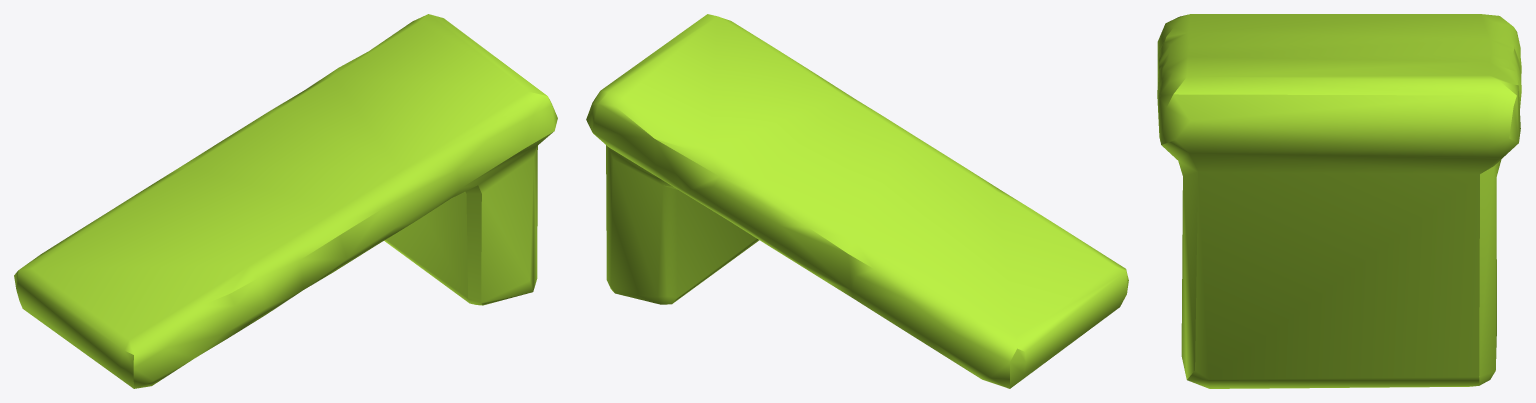
File: ramp.glb
3 renders of one model, left to right at view 1: azimuth 30°, elevation 25°; view 2: azimuth 150°, elevation 25°; view 3: azimuth 270°, elevation 25°, orthographic. The views are drawn at different scales.
Visible parts, largest first — view 1: ramp; view 2: ramp; view 3: ramp.
Boxes of the visible parts, bbox=[...] form: ramp: bbox=[14, 14, 557, 388]; ramp: bbox=[586, 14, 1128, 388]; ramp: bbox=[1157, 14, 1521, 388].
Bounding box in the file's own units: 6.18 × 2.81 × 3.
